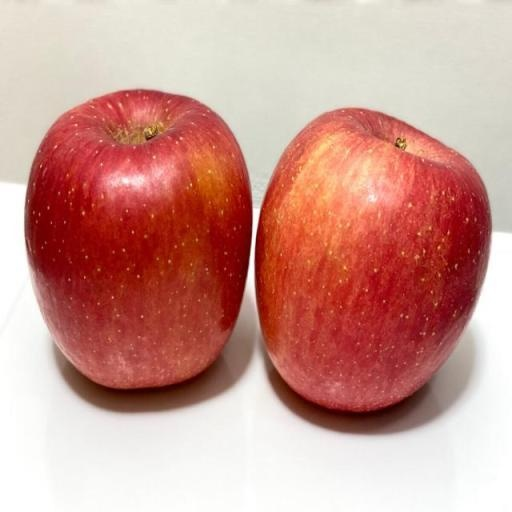fruit: (124, 132, 388, 470), (11, 133, 65, 475)
